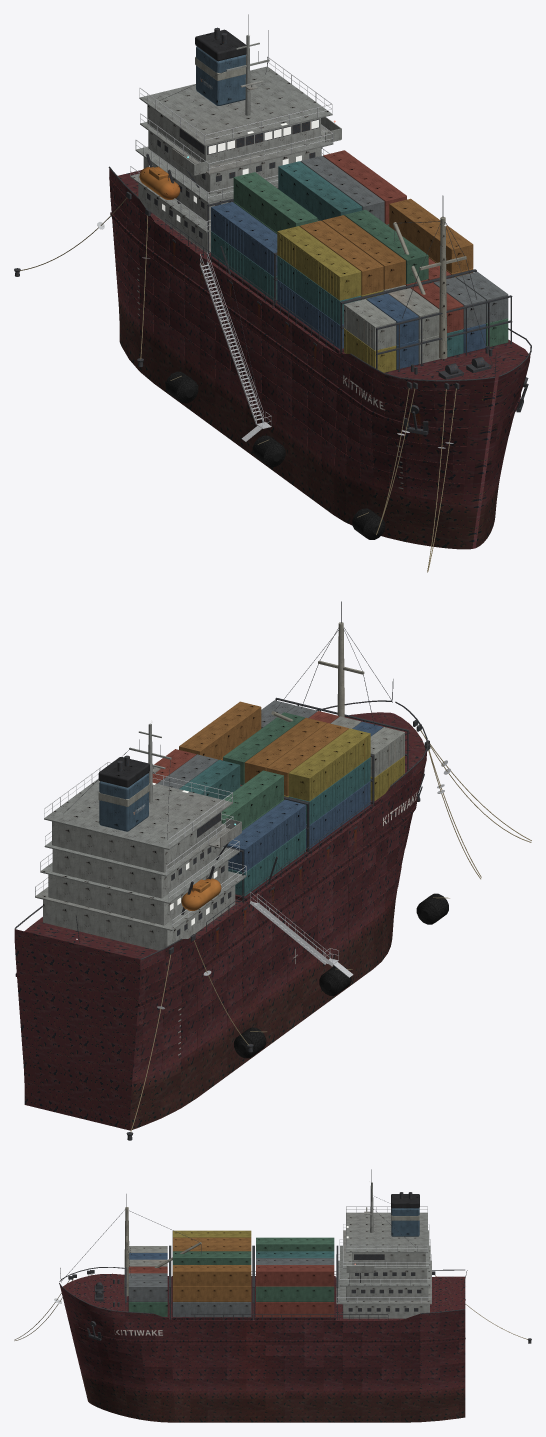
File: ship.glb
The picture shows the model from 3 angles, top to bottom: view 1: azimuth 30°, elevation 25°; view 2: azimuth 150°, elevation 25°; view 3: azimuth 270°, elevation 25°; orthographic projection. The views are drawn at different scales.
Visible parts, largest first — view 1: ship-assembly, ship-lamps; view 2: ship-assembly; view 3: ship-assembly.
Boxes of the visible parts, x1,y1,x2,y2 form: ship-assembly: [14, 14, 531, 572]; ship-lamps: [149, 33, 446, 226]; ship-assembly: [14, 601, 531, 1140]; ship-assembly: [14, 1169, 531, 1422].
Bounding box in the file's own units: 20.5 × 39.66 × 80.37.
11 materials, 10 textured.
